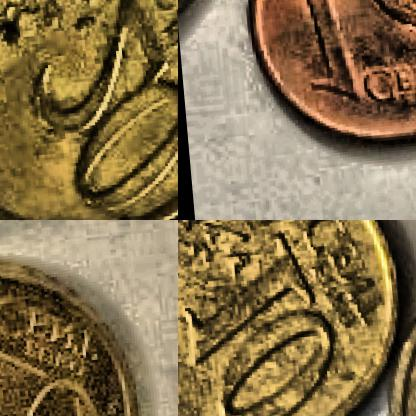coin: (178, 220, 414, 415), (0, 0, 177, 219), (237, 0, 415, 157), (0, 243, 151, 415)
